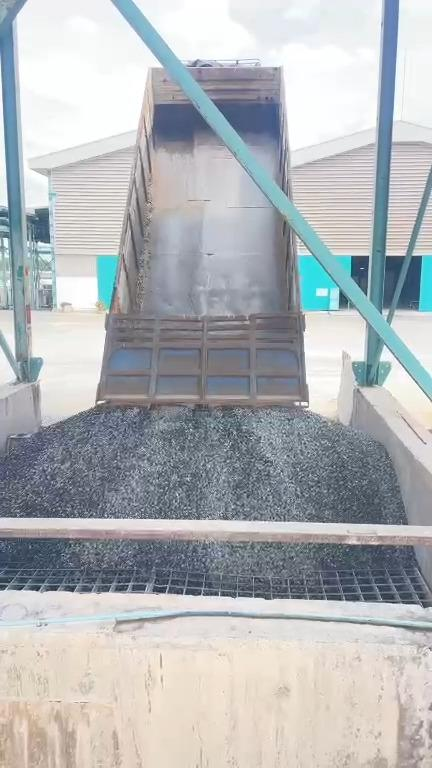gravel: (0, 408, 405, 522), (0, 542, 412, 575)
